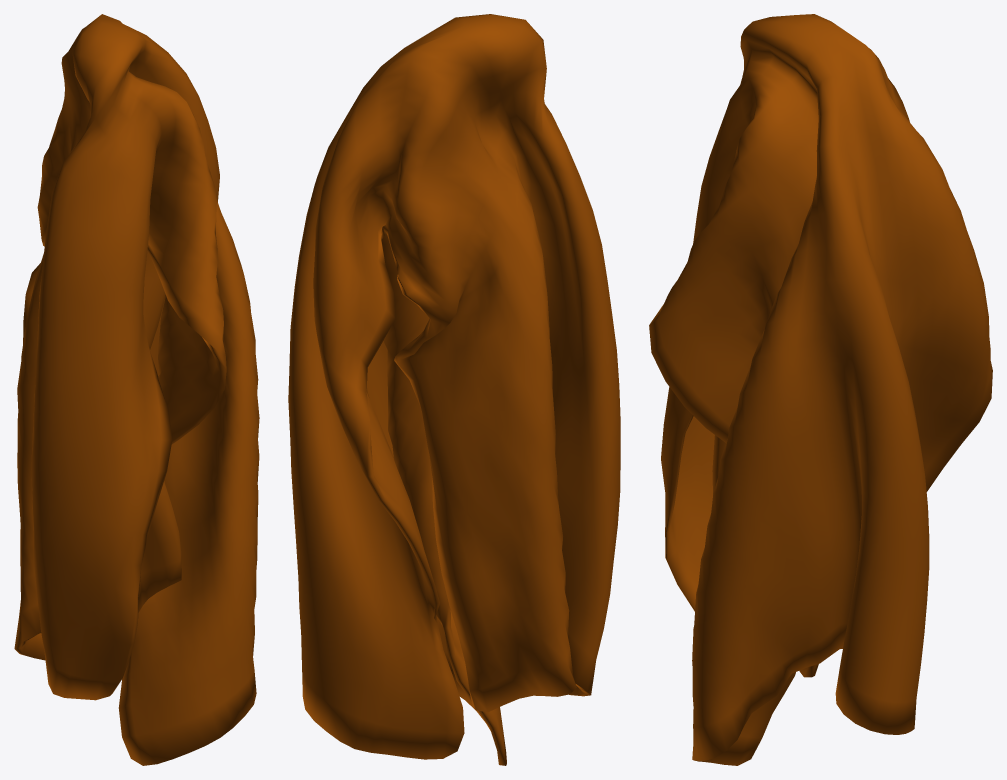
The model's file is Kain3.fbx.
3 views of the same model, side by side, from view 1: azimuth 30°, elevation 25°; view 2: azimuth 150°, elevation 25°; view 3: azimuth 270°, elevation 25° (orthographic). The views are drawn at different scales.
Visible parts, largest first — view 1: Kain3_LOD0; view 2: Kain3_LOD0; view 3: Kain3_LOD0.
Part boxes in pixels (x1,y1,x2,y2): Kain3_LOD0: (14, 14, 259, 765); Kain3_LOD0: (288, 14, 620, 765); Kain3_LOD0: (649, 14, 992, 765).
Size of what is drawn, in the model's own units: 30.28 by 88.8 by 37.31.
